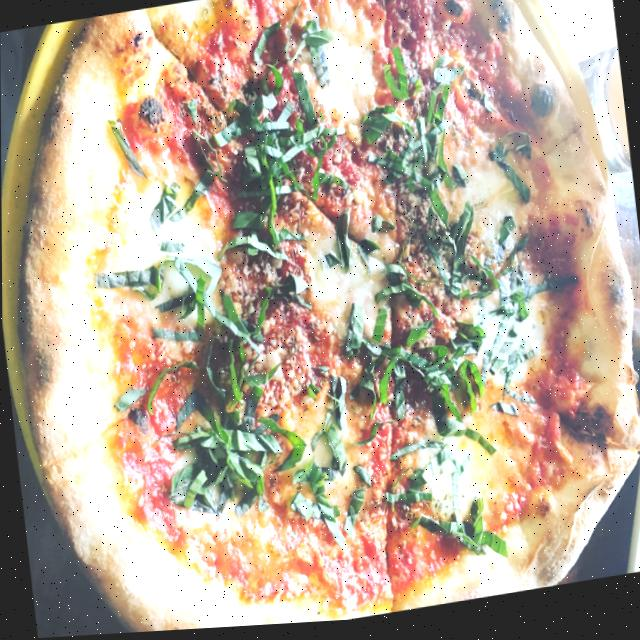basil: (108, 0, 548, 528), (377, 435, 505, 579), (284, 444, 352, 555), (486, 135, 535, 213), (497, 162, 529, 213), (520, 280, 577, 307), (338, 493, 366, 540), (496, 346, 513, 363)
pizza: (0, 0, 640, 640), (197, 18, 341, 284), (80, 243, 224, 332), (103, 348, 212, 460), (136, 298, 258, 358), (144, 158, 230, 242), (92, 100, 151, 200)
